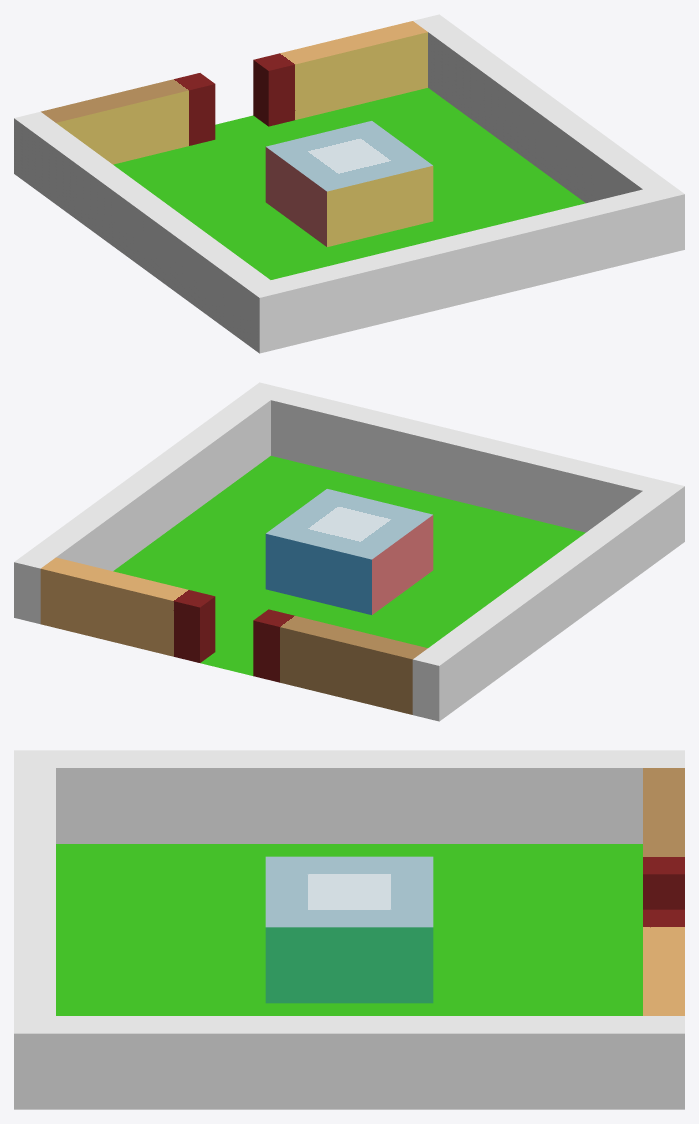
Rendered from park.gltf.
3 views of the same model, one above another, from view 1: azimuth 30°, elevation 25°; view 2: azimuth 150°, elevation 25°; view 3: azimuth 270°, elevation 25° (orthographic). The views are drawn at different scales.
Parts seen in each view (by area): view 1: plane, top, west, fence_east, fountain_base, bottom1, bottom2; view 2: plane, top, west, fence_east, fountain_base, bottom1, bottom2; view 3: plane, fence_east, west, fountain_base, top, bottom2, bottom1.
Boxes of the visible parts, <box> form: plane: <box>113,88,585,279</box>; top: <box>271,189,658,346</box>; west: <box>14,111,286,353</box>; fence_east: <box>413,14,684,256</box>; fountain_base: <box>265,121,433,246</box>; bottom1: <box>253,21,427,126</box>; bottom2: <box>41,73,215,164</box>; plane: <box>113,456,585,675</box>; top: <box>271,389,657,532</box>; west: <box>412,479,684,721</box>; fence_east: <box>14,382,285,624</box>; fountain_base: <box>265,489,433,614</box>; bottom1: <box>40,557,215,662</box>; bottom2: <box>253,609,427,714</box>; plane: <box>56,844,642,1015</box>; fence_east: <box>14,1016,684,1109</box>; west: <box>14,750,684,843</box>; fountain_base: <box>265,856,433,1003</box>; top: <box>14,768,55,1015</box>; bottom2: <box>643,768,684,909</box>; bottom1: <box>643,909,684,1015</box>.
Size of the model in its own units: 1 by 0.125 by 1.
5 materials, 4 textured.
